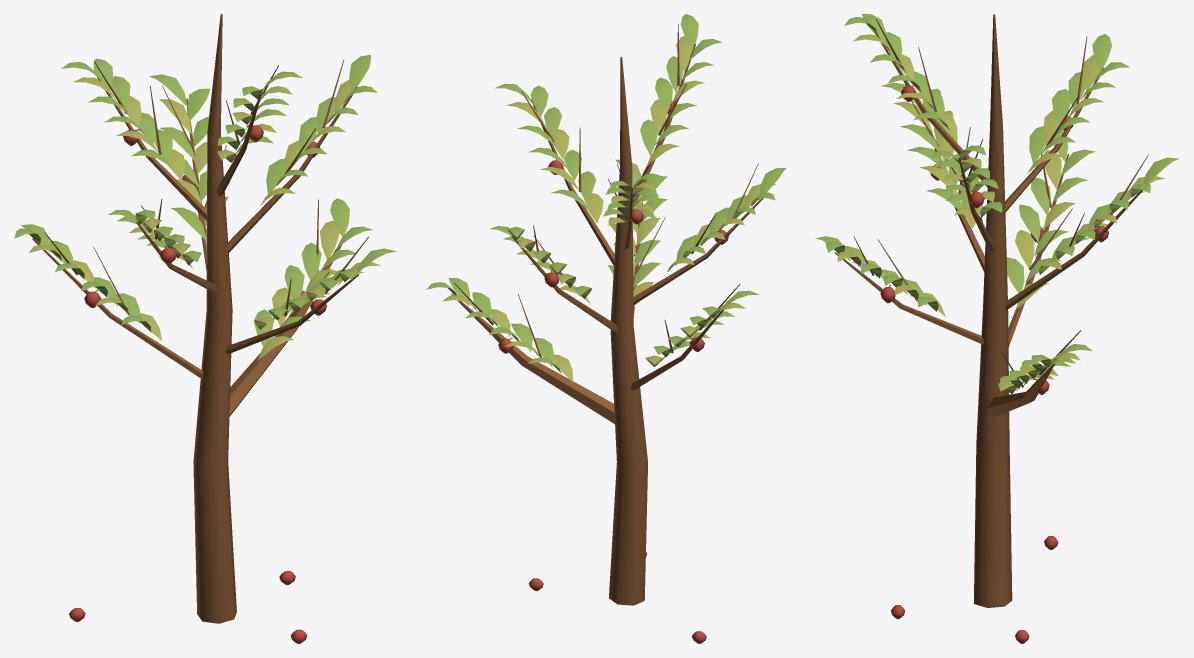
Rendered from crop_apple_tree_overripe.glb.
The picture shows the model from 3 angles, left to right: view 1: azimuth 30°, elevation 25°; view 2: azimuth 150°, elevation 25°; view 3: azimuth 270°, elevation 25°; orthographic projection. The views are drawn at different scales.
Visible parts, largest first — view 1: apple_b_0, apple_leaf_0_1, apple_leaf_0_0, apple_fruit_0_0; view 2: apple_b_0, apple_leaf_0_1, apple_leaf_0_0, apple_fruit_0_0; view 3: apple_b_0, apple_leaf_0_1, apple_leaf_0_0, apple_fruit_0_0.
Part boxes in pixels (<box>): apple_b_0: <box>32,14,368,623</box>; apple_leaf_0_1: <box>14,54,396,346</box>; apple_leaf_0_0: <box>29,77,380,360</box>; apple_fruit_0_0: <box>69,125,326,643</box>; apple_b_0: <box>451,24,763,605</box>; apple_leaf_0_1: <box>426,14,786,374</box>; apple_leaf_0_0: <box>442,36,775,381</box>; apple_fruit_0_0: <box>498,101,728,643</box>; apple_b_0: <box>834,14,1148,607</box>; apple_leaf_0_1: <box>815,14,1179,390</box>; apple_leaf_0_0: <box>837,34,1165,394</box>; apple_fruit_0_0: <box>880,85,1108,643</box>.
Bounding box in the file's own units: 1.97 × 3.2 × 1.79.
